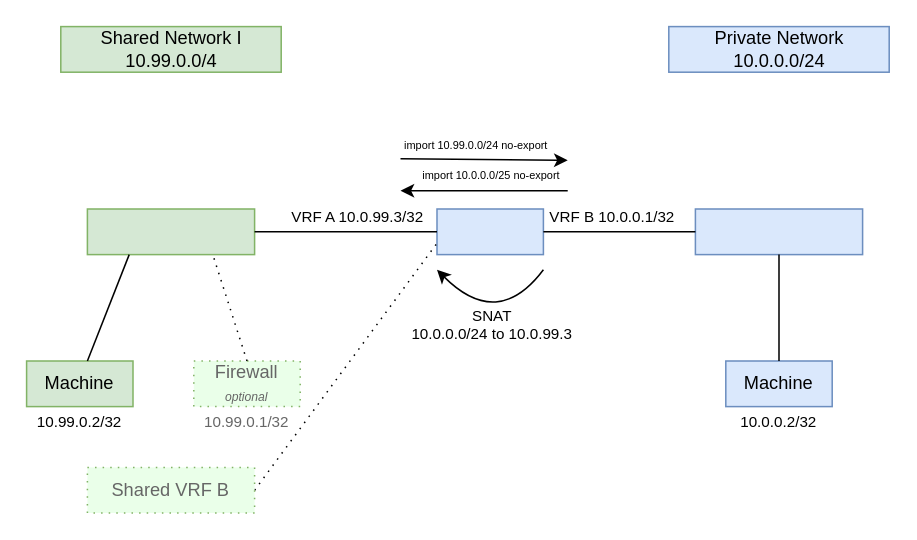
Image size: 917x540. Some labels were removed from this diagram. The centre of each missing label's shape, as x and y in pixels:
"Firewall" belongs at point 489,231.
"Private VRF B" belongs at point 778,231.
"Shared VRF A" belongs at point 170,231.
